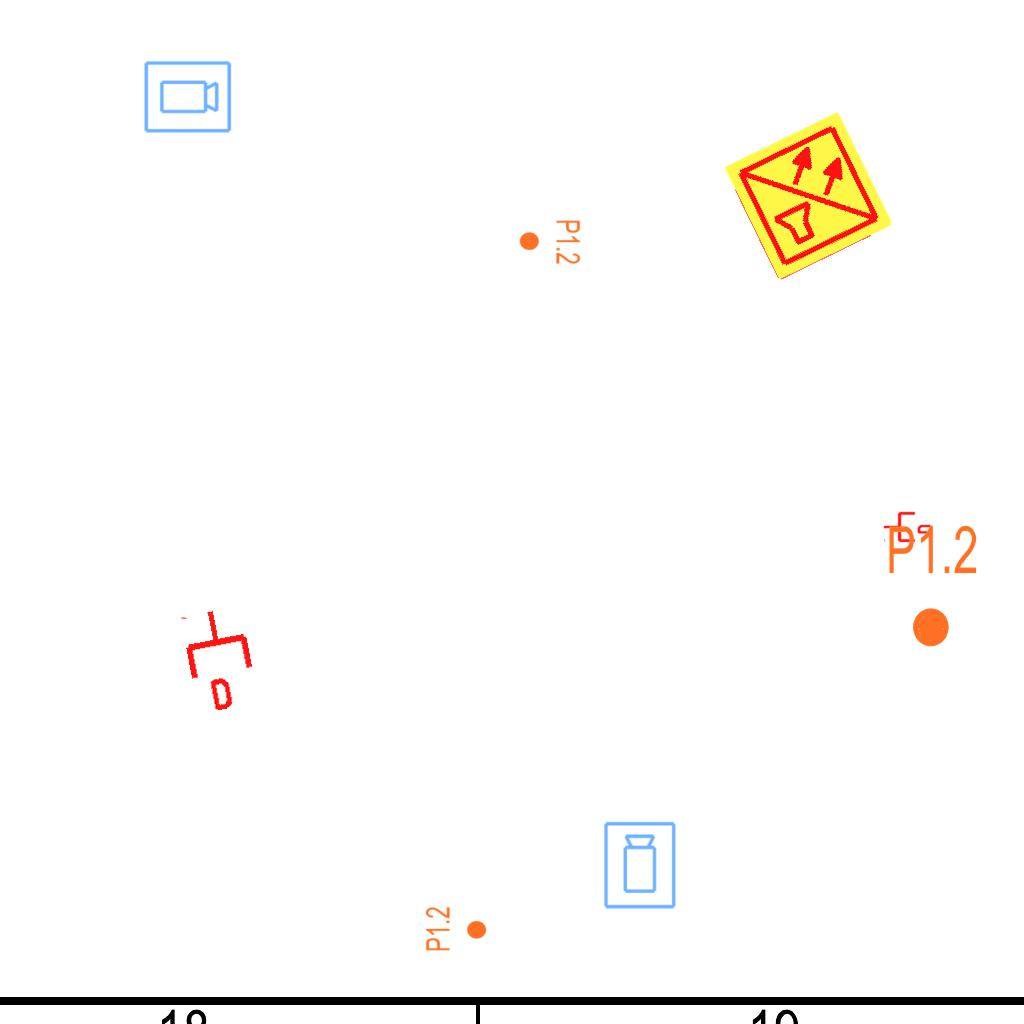Datenanschluss_einfach: (176, 603, 263, 715), (883, 510, 933, 544)
Downlight_LED_Einbauleuchten_Flur: (886, 522, 979, 650), (518, 219, 582, 265), (424, 906, 488, 952)
KFO_Kamera_mit_Festobjektiv: (602, 820, 679, 911), (142, 59, 233, 136)
OKW_Multisensormelder_(Kombination_optischer_Rauch-Kahlenmonoxid_Waerme-Melder): (720, 107, 898, 285)
